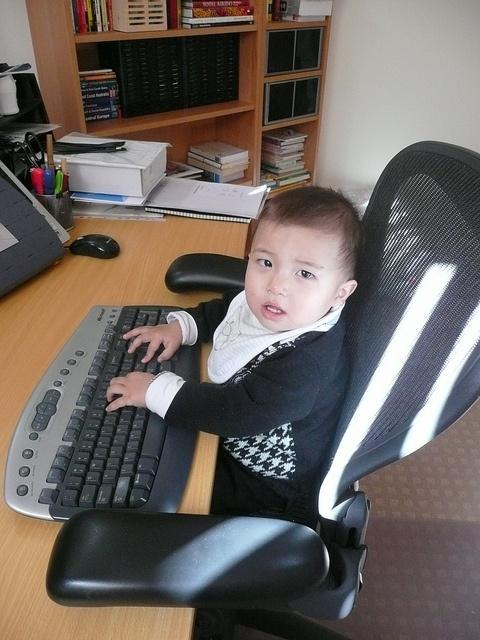Rak: (65, 0, 333, 190)
